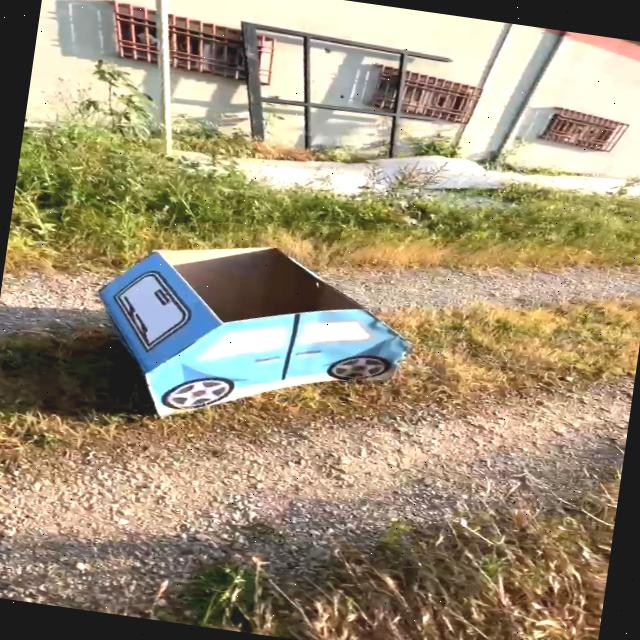blue_car: (31, 193, 440, 490)
